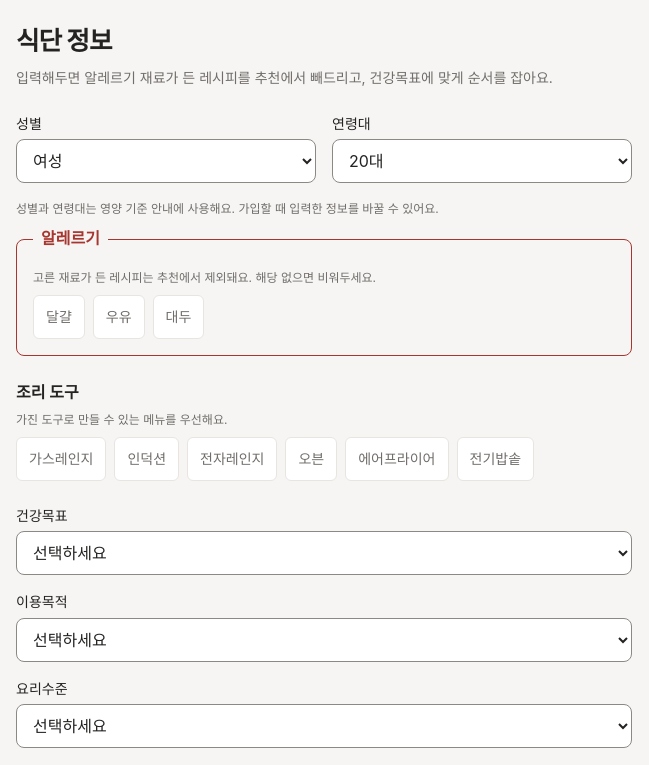
식단 정보 입력 › 건강 정보를 넣으면 별도 동의를 묻는다
The image size is (649, 765).
Expected: the field labelled "알레르기·병력 정보 수집에 동의" is not shown
Click the button "달걀".
click(59, 317)  # box [33, 295, 85, 339]
(page scrolled)
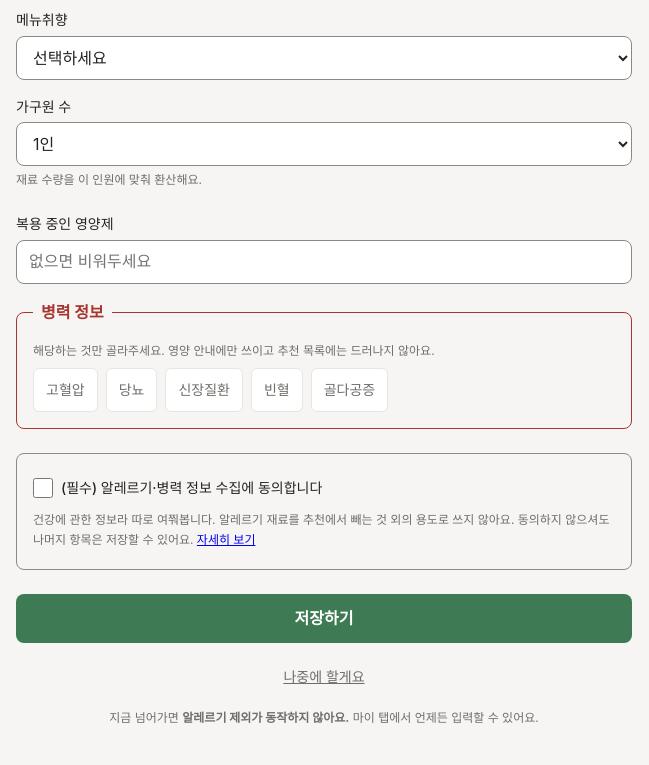
Expected: the checkbox labelled "(필수) 알레르기·병력 정보 수집에 동의합니다" is shown, [33, 478, 53, 498]
